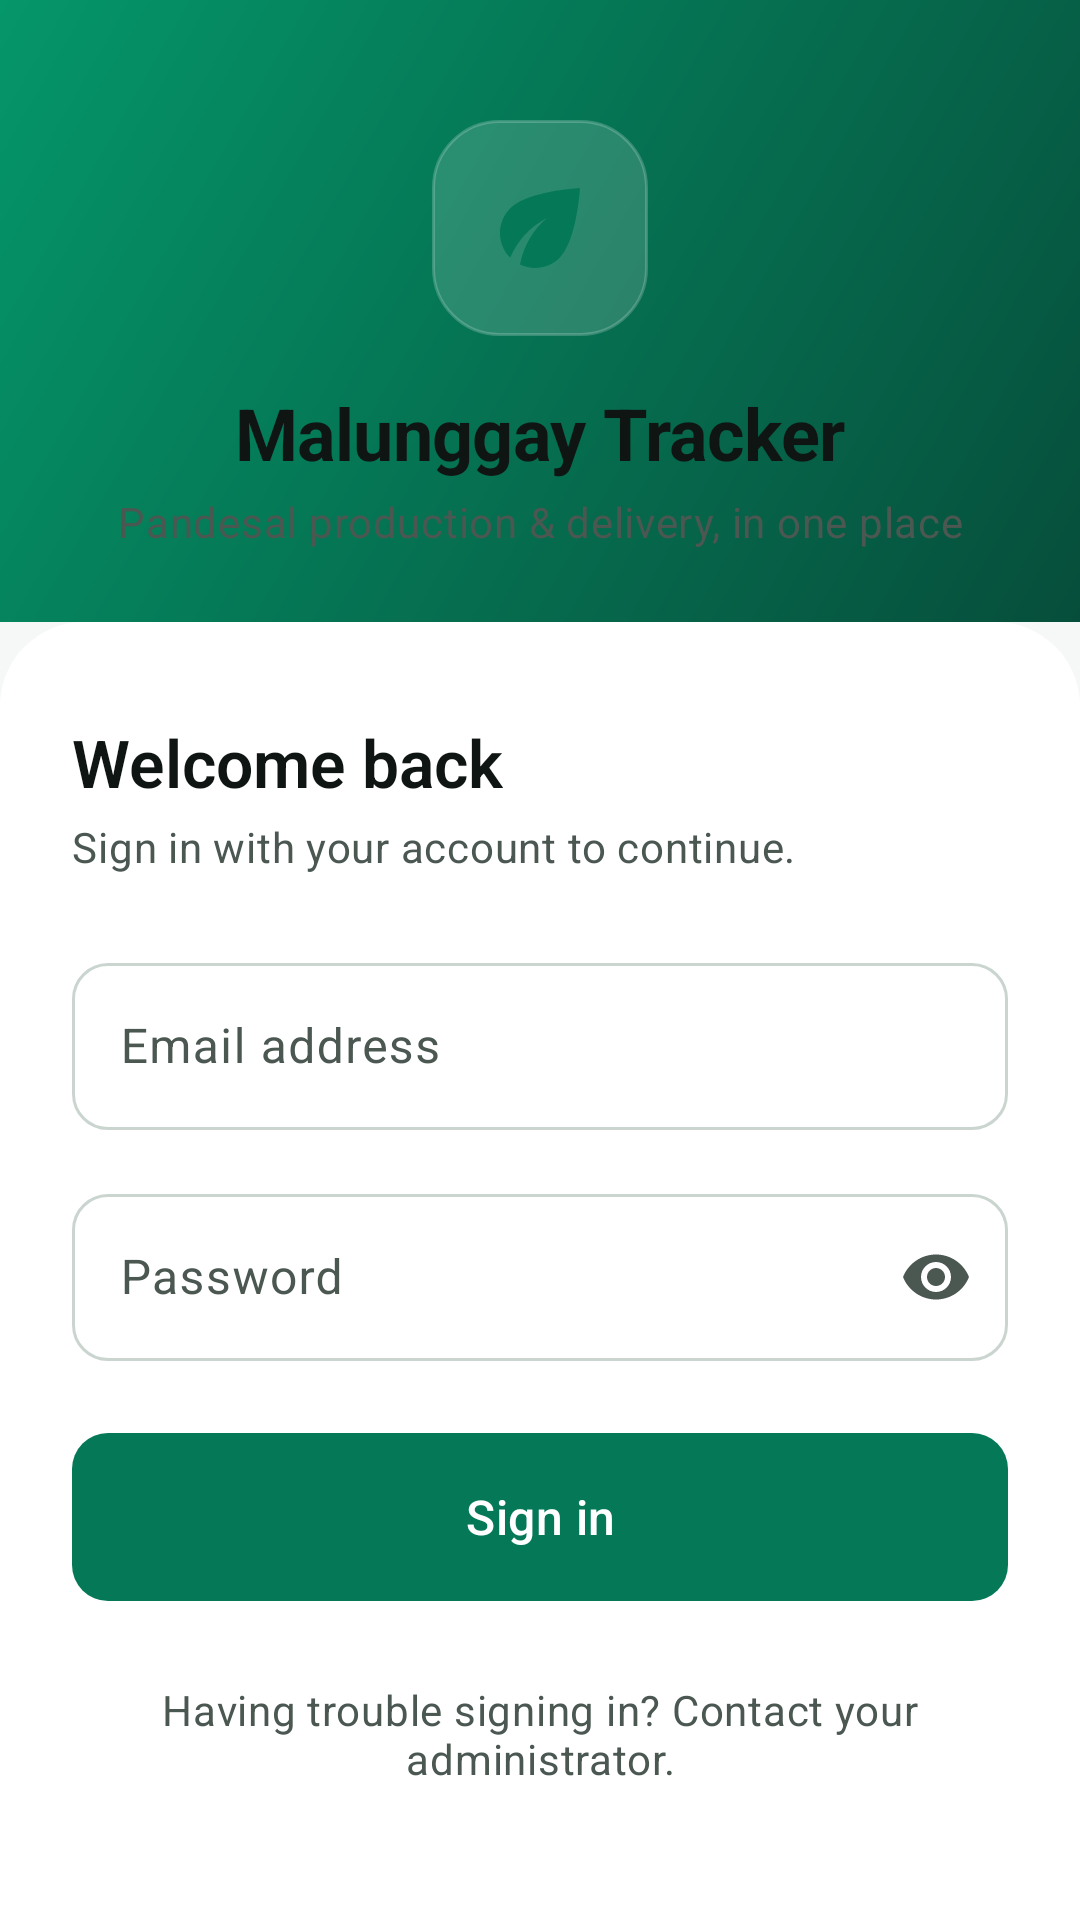

Point at icon controls on the screen. Image size 1080 × 1920, points as point (x, y).
leaf: point (540, 228)
